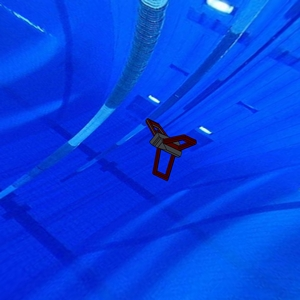submarine: (140, 114, 202, 187)
